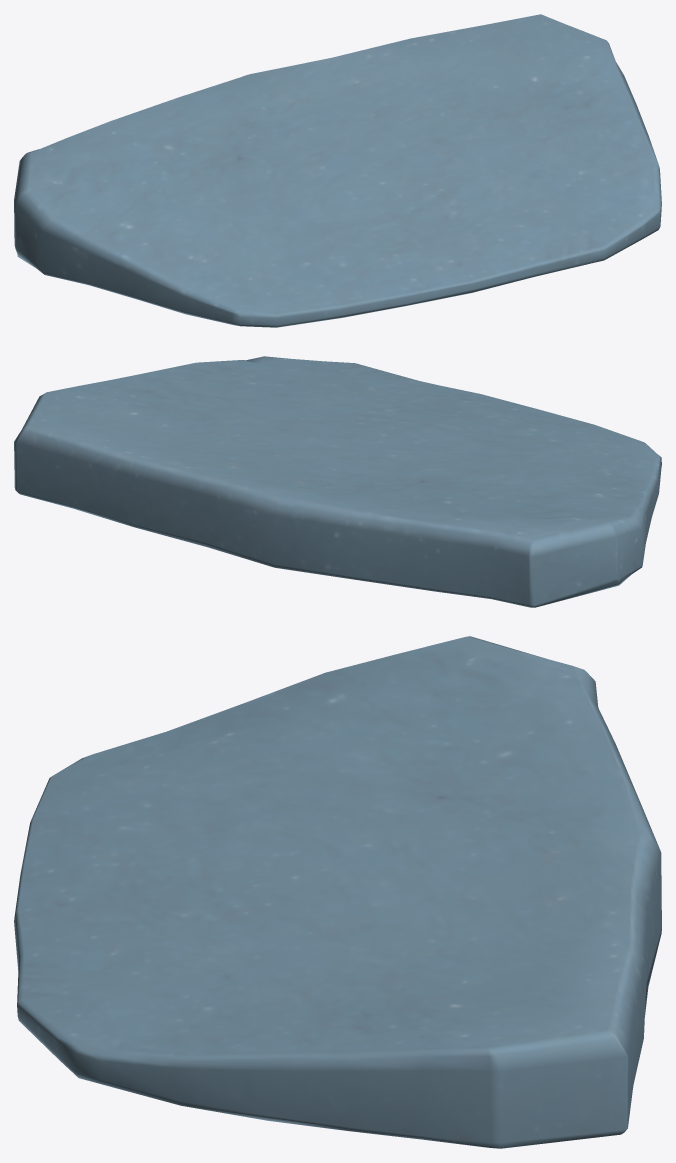
The model's file is Meshy_AI_model_20261128_texture.fbx.
The picture shows the model from 3 angles, top to bottom: view 1: azimuth 30°, elevation 25°; view 2: azimuth 150°, elevation 25°; view 3: azimuth 270°, elevation 25°; orthographic projection. The views are drawn at different scales.
Visible parts, largest first — view 1: geometry_0; view 2: geometry_0; view 3: geometry_0.
Part boxes in pixels (x1,y1,x2,y2): geometry_0: [14, 14, 661, 327]; geometry_0: [14, 356, 661, 607]; geometry_0: [14, 636, 661, 1148].
Bounding box in the file's own units: 100 × 11.34 × 64.65.
1 material, 1 textured.
